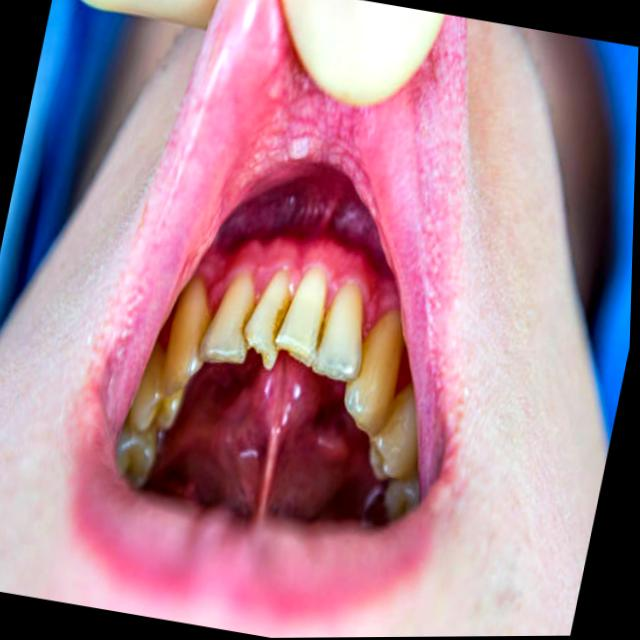gingivitis: (196, 238, 398, 334)
